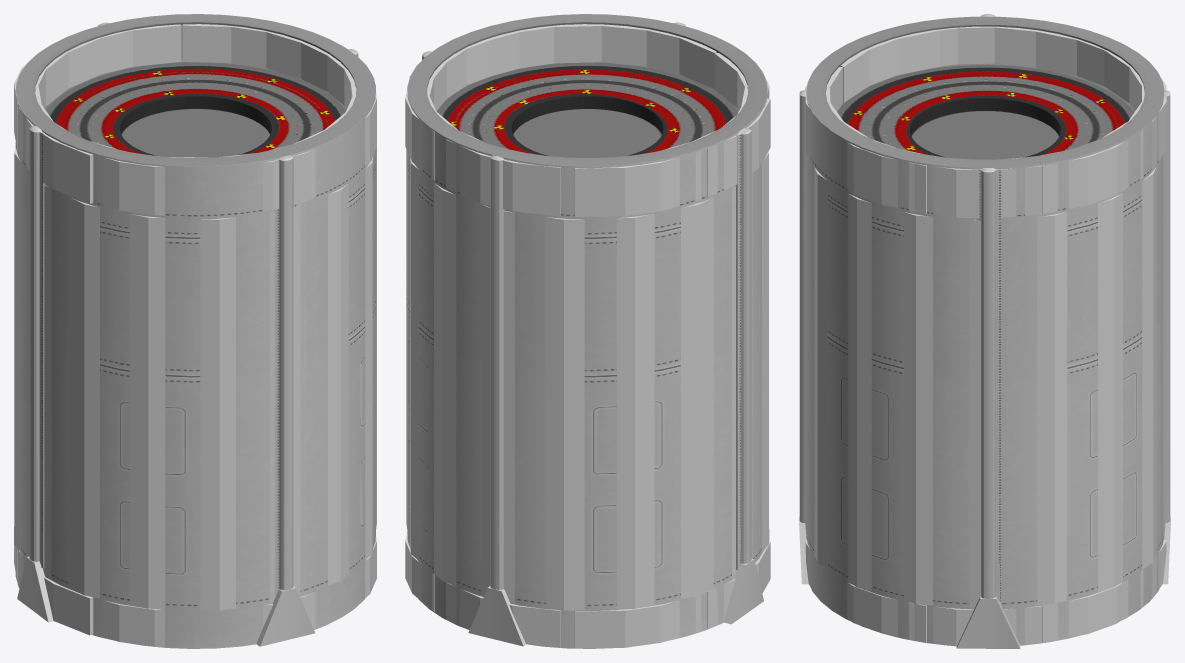
3 renders of one model, left to right at view 1: azimuth 30°, elevation 25°; view 2: azimuth 150°, elevation 25°; view 3: azimuth 270°, elevation 25°, orthographic.
Visible parts, largest first — view 1: fuelTank, Cylinder.001, Cube.002, Cube.001, Cube.005, Cube.008, Cube.012, Cube.006, Cube.007, Cube.009, Cube.003, Cube.004; view 2: fuelTank, Cylinder.001, Cube.003, Cube.001, Cube.006, Cube.014, Cube.004, Cube.016, Cube.008, Cube.007, Cube.005, Cube.002 (+2 smaller); view 3: fuelTank, Cylinder.001, Cube.007, Cube.002, Cube.005, Cube.008, Cube.003, Cube.004, Cube.015, Cube.013, Cube.010, Cube.001 (+1 smaller).
Boxes of the visible parts, x1,y1,x2,y2 form: fuelTank: (15,14,375,648); Cylinder.001: (14,146,376,610); Cube.002: (182,24,307,78); Cube.001: (65,24,181,88); Cube.005: (91,141,207,215); Cube.008: (18,105,93,203); Cube.012: (103,600,164,646); Cube.006: (220,129,326,210); Cube.007: (301,42,375,109); Cube.009: (18,550,93,635); Cube.003: (14,52,68,151); Cube.004: (325,75,376,166); fuelTank: (407,14,767,648); Cylinder.001: (406,149,768,610); Cube.003: (574,142,701,216); Cube.001: (446,132,560,216); Cube.006: (599,24,716,89); Cube.014: (574,594,701,648); Cube.004: (476,24,601,75); Cube.016: (446,582,560,647); Cube.008: (692,98,770,197); Cube.007: (409,40,491,110); Cube.005: (714,53,769,110); Cube.002: (405,75,457,180); fuelTank: (799,14,1170,648); Cylinder.001: (805,148,1165,608); Cube.007: (909,155,1042,218); Cube.002: (1042,122,1143,213); Cube.005: (840,29,941,102); Cube.008: (940,26,1035,67); Cube.003: (1033,30,1130,102); Cube.004: (844,122,926,213); Cube.015: (1042,570,1143,642); Cube.013: (847,582,926,642); Cube.010: (909,602,1042,646); Cube.001: (1128,66,1166,169).
Size of the model in its own units: 412 by 581 by 409.
1 material, 1 textured.
